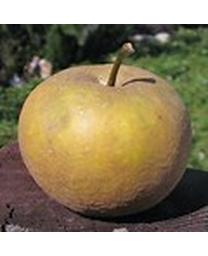apple: (18, 41, 192, 216)
